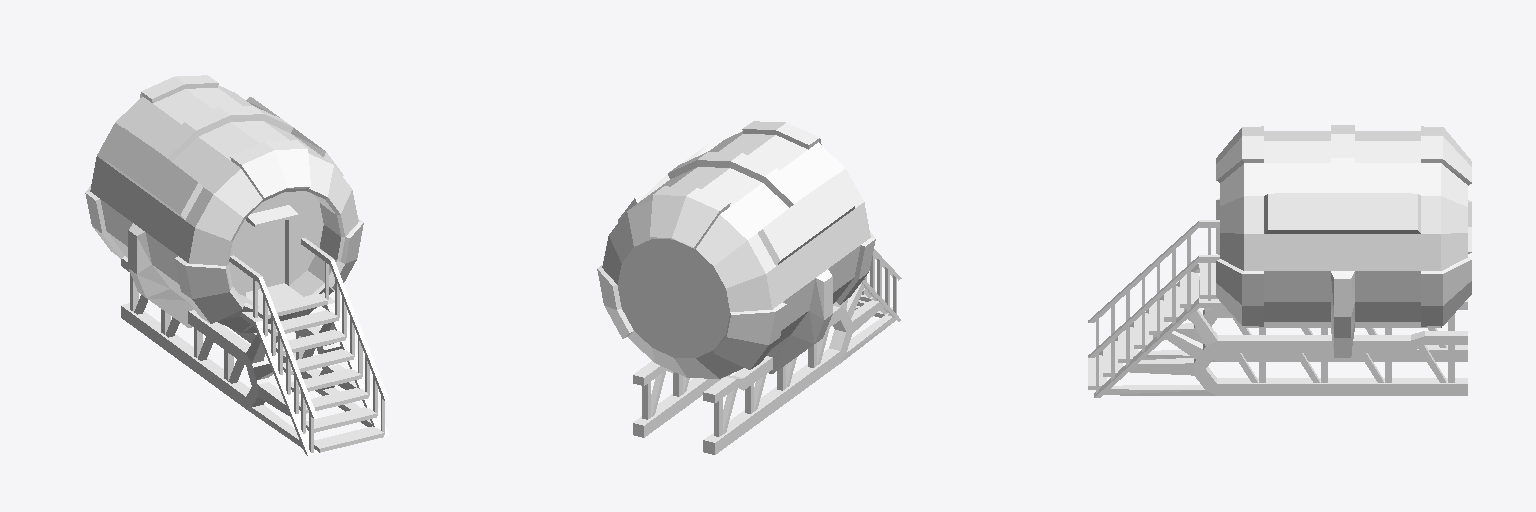
File: stantion_3.obj
3 renders of one model, left to right at view 1: azimuth 30°, elevation 25°; view 2: azimuth 150°, elevation 25°; view 3: azimuth 270°, elevation 25°, orthographic.
Visible parts, largest first — view 1: Cylinder.003, Cube.001_Cube.008, Cube.004_Cube.012, Cube.005_Cube.013, Cube.007_Cube.015, Cube.002_Cube.009, Cube.010_Cube.016, Cube.003_Cube.010; view 2: Cylinder.003, Cube.001_Cube.008, Cube.010_Cube.016, Cube.007_Cube.015; view 3: Cylinder.003, Cube.001_Cube.008, Cube.004_Cube.012, Cube.010_Cube.016, Cube.005_Cube.013, Cube.007_Cube.015, Cube.002_Cube.009.
Boxes of the visible parts, x1,y1,x2,y2 form: Cylinder.003: [85, 75, 363, 332]; Cube.001_Cube.008: [121, 256, 371, 448]; Cube.004_Cube.012: [268, 310, 383, 452]; Cube.005_Cube.013: [229, 238, 388, 418]; Cube.007_Cube.015: [263, 279, 384, 452]; Cube.002_Cube.009: [240, 292, 389, 455]; Cube.010_Cube.016: [130, 273, 315, 383]; Cube.003_Cube.010: [258, 293, 327, 318]; Cylinder.003: [597, 121, 875, 378]; Cube.001_Cube.008: [633, 283, 895, 454]; Cube.010_Cube.016: [642, 328, 829, 436]; Cube.007_Cube.015: [862, 253, 896, 313]; Cylinder.003: [1216, 125, 1471, 357]; Cube.001_Cube.008: [1104, 276, 1467, 395]; Cube.004_Cube.012: [1088, 272, 1198, 389]; Cube.010_Cube.016: [1233, 314, 1454, 382]; Cube.005_Cube.013: [1088, 220, 1219, 357]; Cube.007_Cube.015: [1096, 236, 1190, 393]; Cube.002_Cube.009: [1094, 263, 1225, 397].
Bounding box in the file's own units: 2.16 × 2.74 × 3.91.